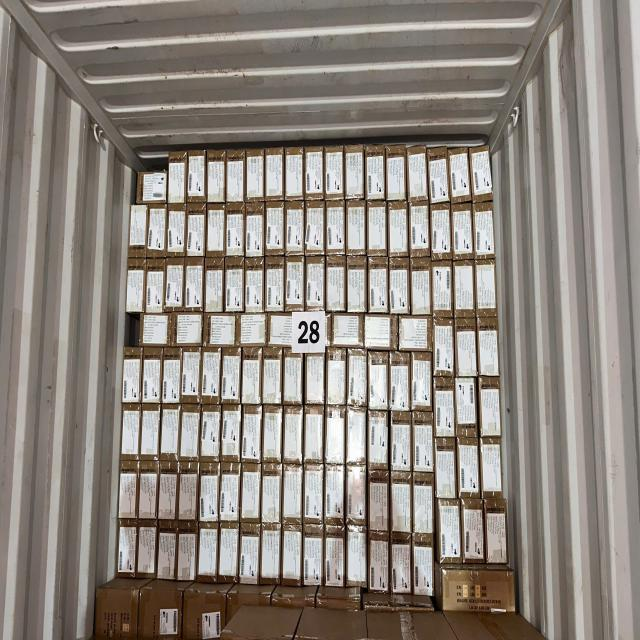Carton: (440, 567, 516, 615), (267, 316, 331, 351), (484, 499, 512, 567), (460, 498, 486, 564), (438, 498, 462, 564), (447, 145, 473, 204), (480, 437, 505, 498), (457, 436, 481, 498), (324, 528, 348, 590), (469, 146, 495, 202), (429, 204, 454, 262), (179, 460, 200, 528), (478, 317, 501, 379), (411, 351, 434, 413), (239, 523, 262, 585), (426, 148, 451, 205), (479, 379, 504, 436), (472, 201, 496, 259), (368, 471, 390, 534), (433, 377, 455, 439), (325, 462, 345, 530), (158, 461, 178, 529), (451, 202, 474, 261), (474, 260, 498, 316), (413, 536, 435, 597), (220, 404, 243, 462), (456, 377, 478, 437), (436, 440, 458, 500), (391, 473, 413, 533), (117, 463, 139, 523), (413, 473, 434, 535), (304, 524, 325, 586), (367, 352, 389, 411), (368, 411, 390, 470), (390, 258, 413, 314), (219, 522, 239, 586), (221, 462, 241, 526), (346, 255, 368, 313), (411, 258, 433, 316), (433, 261, 455, 319), (180, 407, 202, 465), (160, 404, 182, 462), (364, 315, 400, 350), (261, 525, 282, 585), (162, 343, 182, 406), (203, 255, 225, 312), (432, 322, 454, 379), (456, 321, 478, 378), (392, 410, 412, 472), (413, 411, 433, 473), (370, 534, 390, 596), (346, 466, 366, 528), (282, 523, 302, 585), (409, 202, 431, 258), (284, 258, 306, 314), (326, 256, 348, 312), (455, 262, 477, 318), (346, 410, 368, 466), (200, 463, 220, 524), (182, 345, 202, 406), (347, 199, 367, 259), (391, 350, 411, 410), (347, 528, 367, 588), (242, 404, 262, 464), (331, 314, 365, 349), (398, 316, 432, 351), (368, 259, 390, 313), (136, 523, 158, 577), (245, 256, 265, 315), (349, 349, 369, 408), (304, 464, 324, 523), (262, 466, 282, 525), (122, 345, 142, 404), (344, 145, 366, 198), (283, 466, 303, 524), (263, 349, 283, 407), (222, 348, 242, 406), (202, 347, 222, 405), (142, 346, 162, 404), (120, 404, 140, 462), (116, 524, 136, 582), (204, 314, 238, 348), (392, 534, 410, 598), (186, 150, 206, 207), (387, 145, 407, 202), (305, 201, 325, 258), (388, 201, 408, 258), (139, 463, 157, 526), (366, 146, 386, 202), (408, 144, 428, 200), (285, 202, 305, 258), (368, 200, 388, 256), (328, 350, 348, 406), (242, 350, 262, 406), (178, 528, 198, 584), (156, 526, 176, 582), (327, 403, 345, 465), (198, 522, 216, 584), (326, 200, 346, 255), (225, 258, 245, 313), (266, 258, 286, 313), (283, 407, 301, 468), (140, 404, 159, 461), (304, 407, 324, 461), (242, 464, 260, 524), (201, 405, 219, 464), (305, 353, 325, 406), (186, 207, 208, 255), (137, 169, 167, 204), (128, 255, 146, 313), (284, 353, 304, 405), (148, 257, 166, 314), (306, 258, 326, 309), (141, 312, 171, 346), (264, 409, 282, 465), (325, 146, 344, 199), (208, 151, 226, 206), (285, 148, 304, 200), (246, 149, 264, 203), (265, 148, 283, 202), (266, 204, 284, 258), (167, 255, 185, 309), (148, 206, 167, 257), (238, 316, 268, 348), (170, 313, 203, 342), (130, 205, 148, 258), (168, 148, 185, 204), (186, 256, 203, 312), (306, 148, 324, 200), (207, 207, 226, 256), (246, 205, 264, 255), (227, 152, 244, 204), (227, 206, 244, 258), (168, 207, 186, 254)
